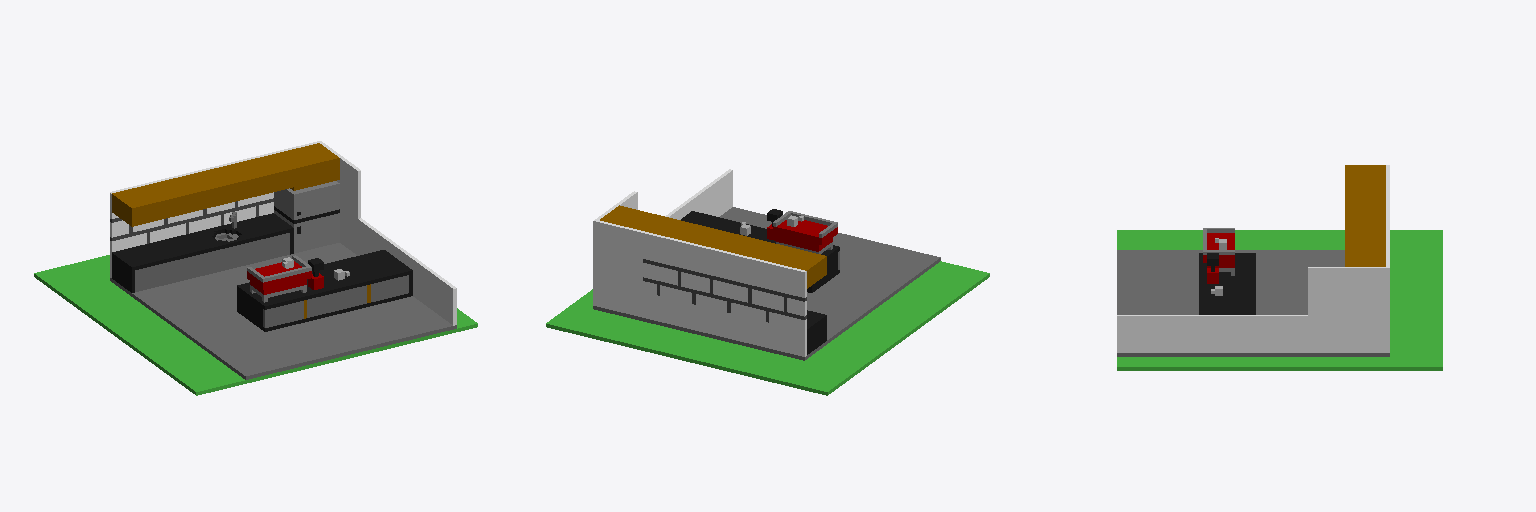
3 renders of one model, left to right at view 1: azimuth 30°, elevation 25°; view 2: azimuth 150°, elevation 25°; view 3: azimuth 270°, elevation 25°, orthographic.
Parts seen in each view (by area): view 1: object 1; view 2: object 1; view 3: object 1.
Part boxes in pixels (x1,y1,x2,y2): object 1: (34, 141, 477, 395); object 1: (546, 169, 989, 395); object 1: (1117, 165, 1442, 370).
Size of the model in its own units: 8 by 2.5 by 8.
Materials: 1 (1 with a texture image).